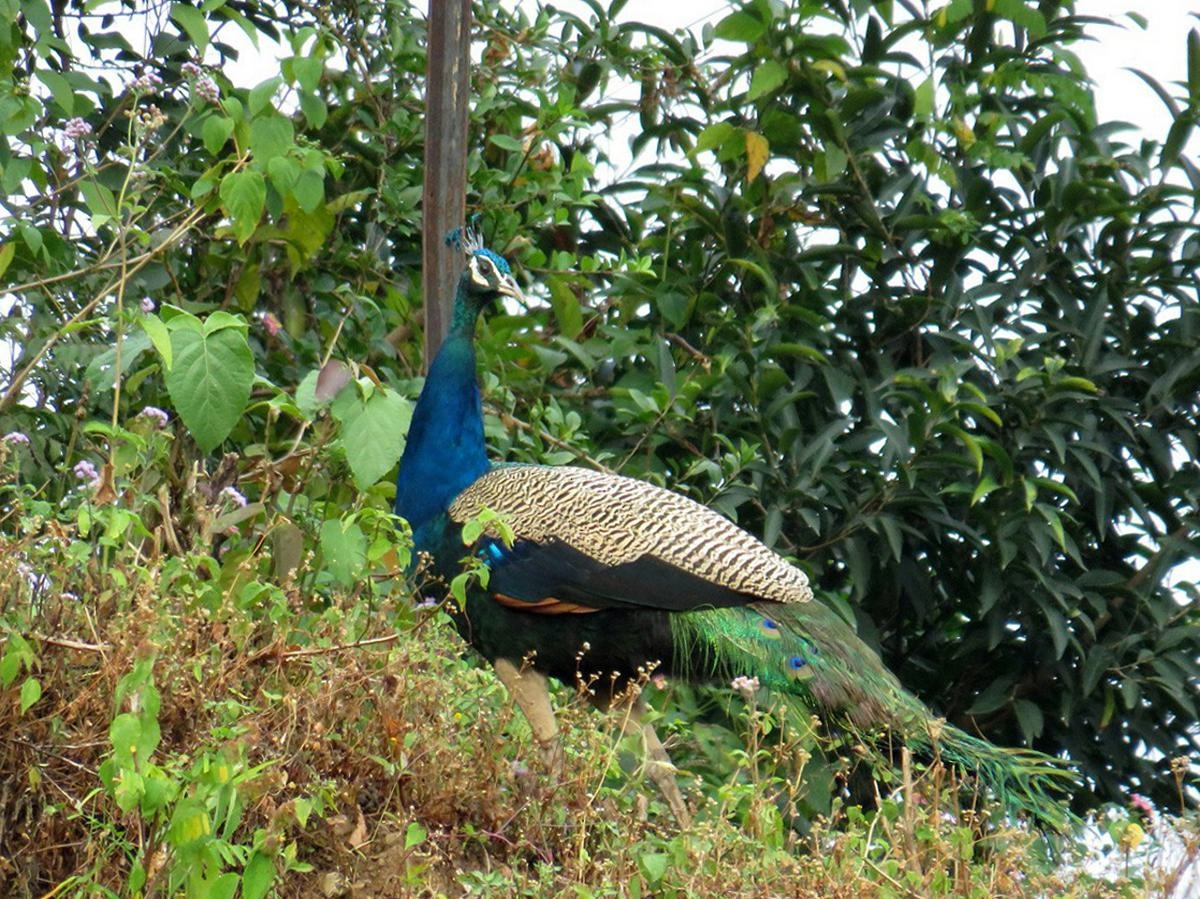peacock: (423, 220, 825, 723)
